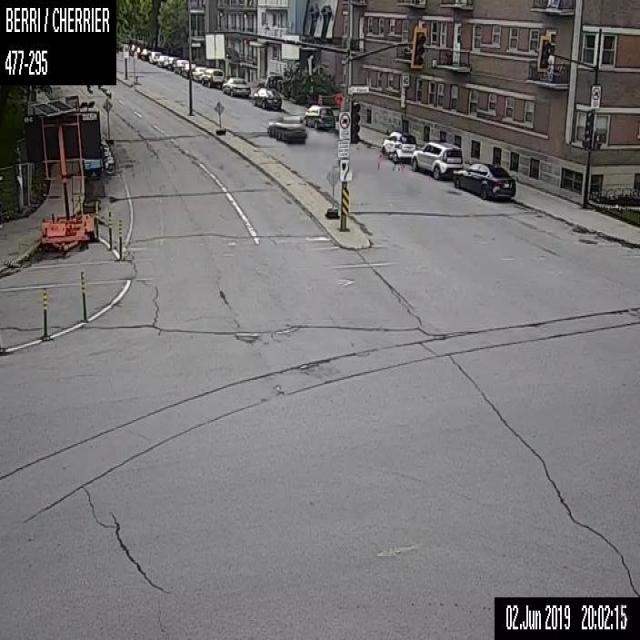construction: (23, 96, 102, 258), (324, 162, 338, 218), (102, 97, 112, 143), (213, 100, 225, 133), (80, 268, 87, 321), (117, 212, 122, 260), (107, 213, 111, 252), (43, 288, 46, 335), (334, 92, 342, 104), (317, 94, 321, 104)
vehicle: (452, 161, 515, 198), (410, 141, 463, 180), (380, 130, 416, 162), (266, 114, 306, 142), (303, 104, 335, 129), (252, 84, 282, 108), (222, 77, 250, 97), (201, 68, 223, 86), (172, 58, 187, 73), (180, 62, 195, 76), (191, 66, 205, 80), (165, 56, 178, 69), (148, 50, 161, 63), (156, 54, 168, 66), (140, 48, 150, 58), (129, 44, 137, 54), (135, 46, 141, 57)
